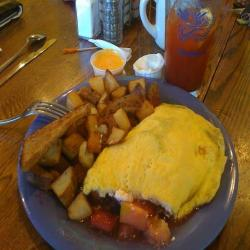fries: (39, 79, 152, 140)
omelette: (92, 105, 223, 211)
